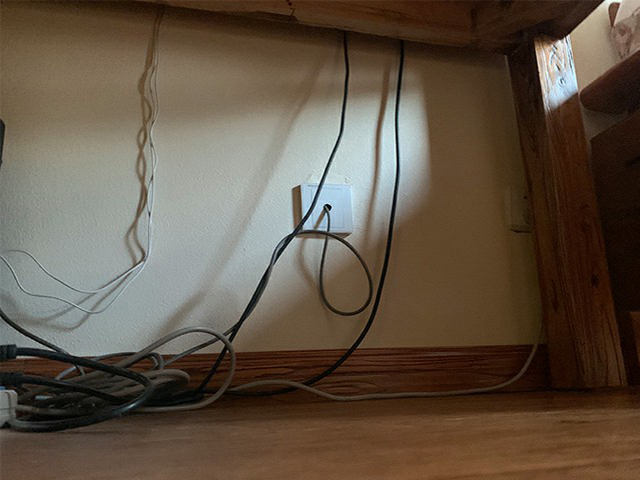wire: (1, 24, 542, 432)
